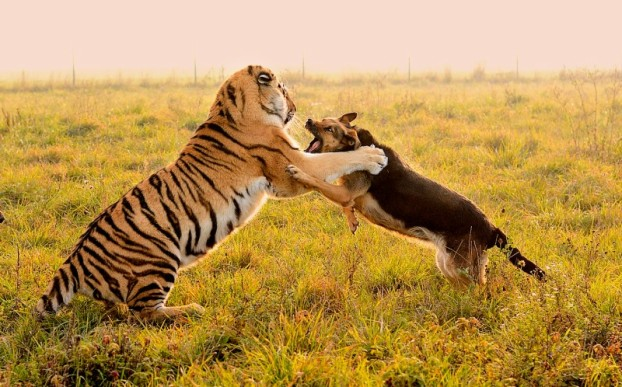dog: (299, 104, 506, 283)
tiger: (40, 65, 307, 323)
